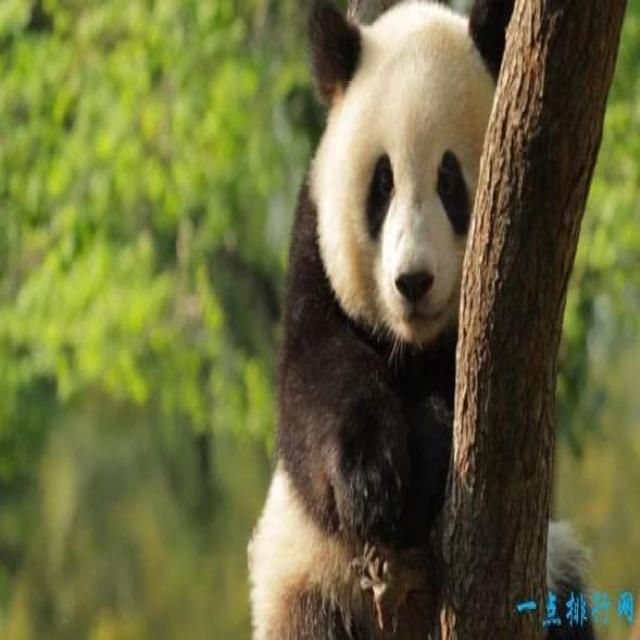panda: (230, 8, 576, 626)
